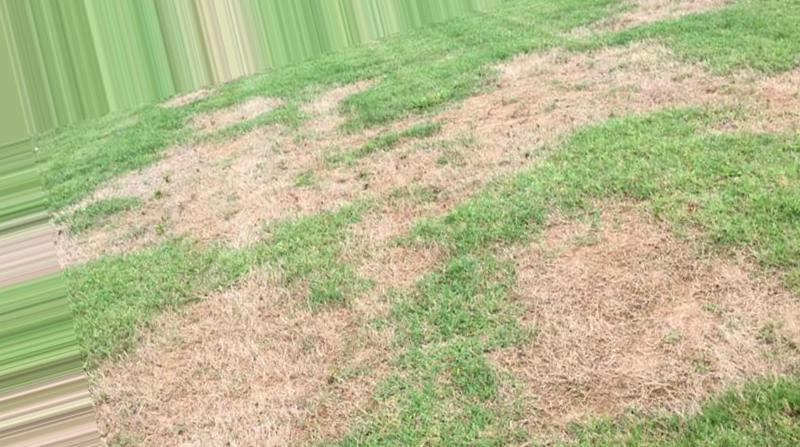patch: (544, 235, 698, 409), (151, 303, 334, 424), (168, 154, 301, 230), (522, 62, 683, 110)
